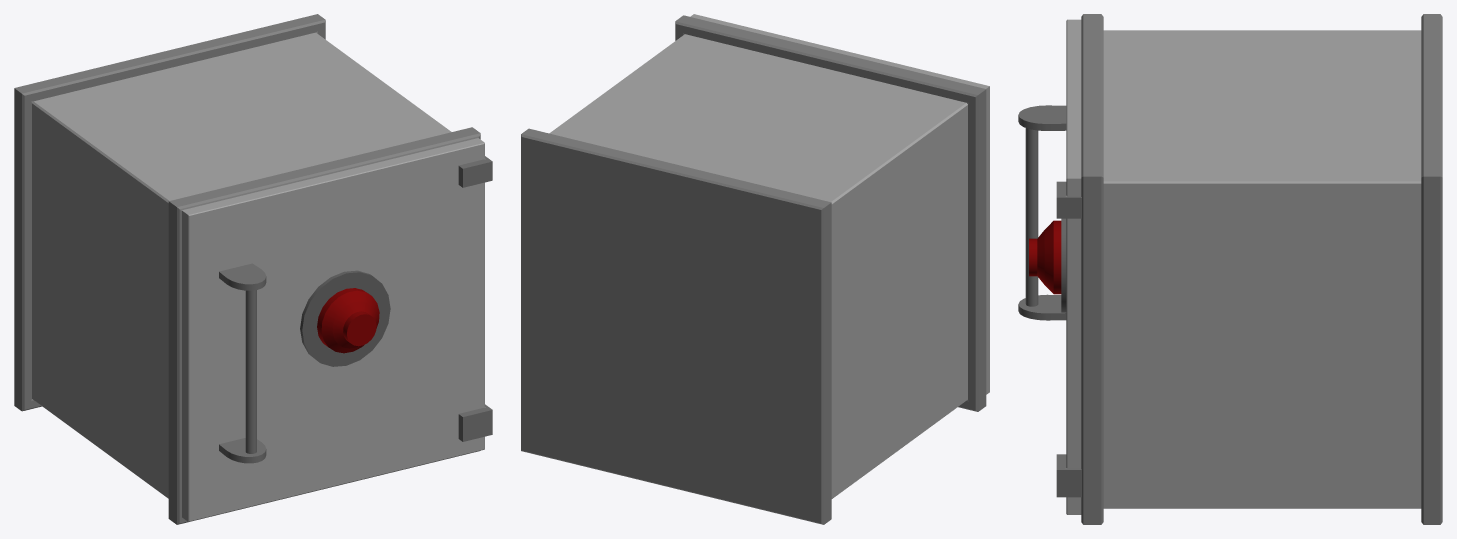
File: Coffre_02.fbx
The picture shows the model from 3 angles, left to right: view 1: azimuth 30°, elevation 25°; view 2: azimuth 150°, elevation 25°; view 3: azimuth 270°, elevation 25°; orthographic projection. The views are drawn at different scales.
Parts seen in each view (by area): view 1: Coffre_02, PorteCoffre_02; view 2: Coffre_02, PorteCoffre_02; view 3: Coffre_02, PorteCoffre_02.
Boxes of the visible parts, bbox=[...] form: Coffre_02: bbox=[14, 14, 480, 524]; PorteCoffre_02: bbox=[182, 138, 492, 521]; Coffre_02: bbox=[521, 15, 986, 524]; PorteCoffre_02: bbox=[690, 14, 989, 394]; Coffre_02: bbox=[1081, 14, 1442, 524]; PorteCoffre_02: bbox=[1018, 19, 1081, 514].
Size of the model in its own units: 4.33 by 4.33 by 4.77.
